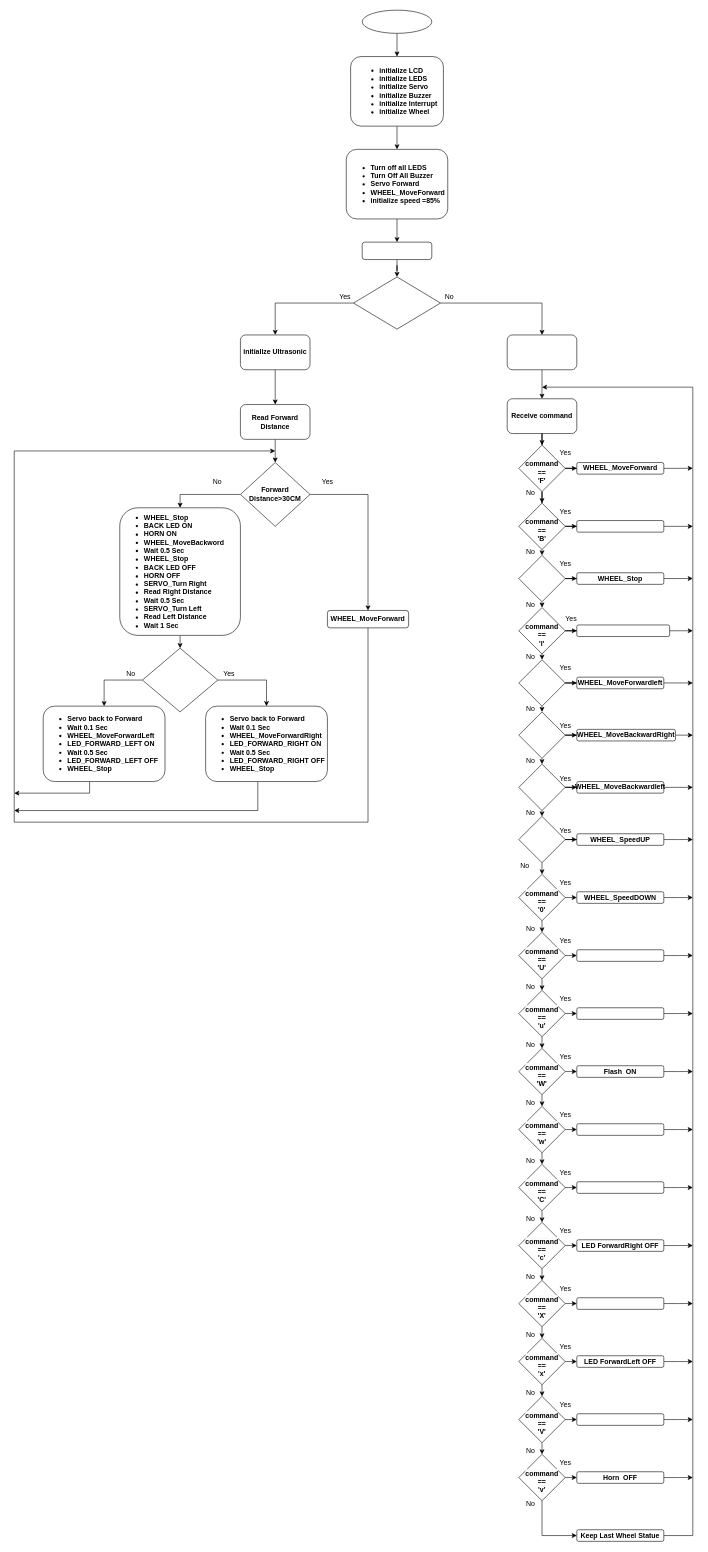
Image size: 708x1552. Some labels were removed from this diagram. The shapes that lost their labels are listed below. From the top down, each one's box as (x1, y1, x2, y2) in pixels, then its label:
(362, 10, 432, 33): Start
(362, 242, 432, 260): Select Mode
(353, 276, 441, 329): Ultrasonic MODE?
(507, 334, 577, 370): initialize Bluetooth
(576, 520, 664, 532): WHEEL_MoveBackward
(518, 555, 565, 602): command == 'S'
(576, 624, 670, 637): WHEEL_MoveForwardRight
(142, 648, 218, 712): Right Distance> Left Distance
(518, 659, 565, 706): command == 'G'
(518, 711, 565, 758): command == 'J'
(518, 764, 565, 811): command == 'H'
(518, 816, 565, 863): command == 'q'
(576, 949, 664, 961): BACK LIGHT ON
(576, 1007, 664, 1019): BACK LIGHT OFF
(576, 1123, 664, 1135): Flash OFF
(576, 1181, 664, 1193): LED ForwardRight ON
(576, 1297, 664, 1309): LED ForwardLeft ON
(576, 1413, 664, 1425): Horn ON
